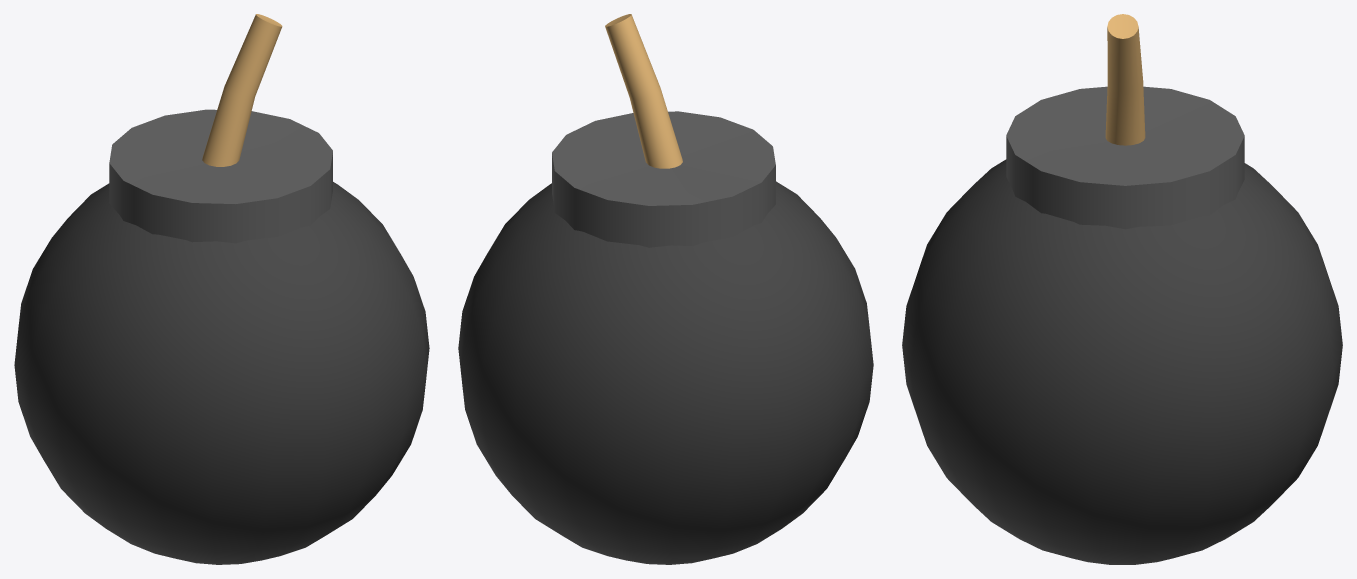
Rendered from Bomb.fbx.
3 renders of one model, left to right at view 1: azimuth 30°, elevation 25°; view 2: azimuth 150°, elevation 25°; view 3: azimuth 270°, elevation 25°, orthographic. The views are drawn at different scales.
Parts seen in each view (by area): view 1: Sphere.002; view 2: Sphere.002; view 3: Sphere.002.
Boxes of the visible parts, x1=… form: Sphere.002: x1=14, y1=14, x2=429, y2=564; Sphere.002: x1=458, y1=14, x2=873, y2=564; Sphere.002: x1=902, y1=14, x2=1342, y2=564.
Bounding box in the file's own units: 0.3319 × 0.3353 × 0.4613.
